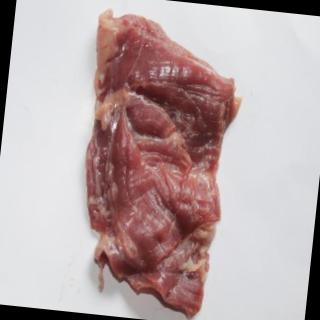Daging Sapi: (69, 6, 250, 320)
